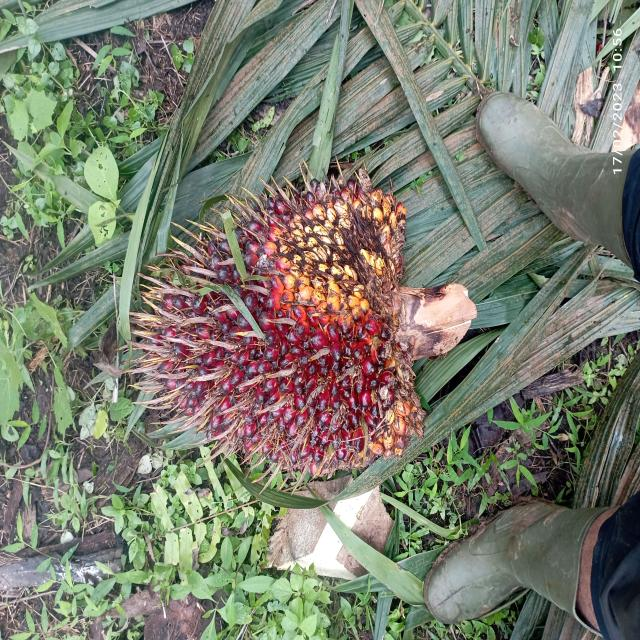fraksi 1: (136, 150, 438, 506)
